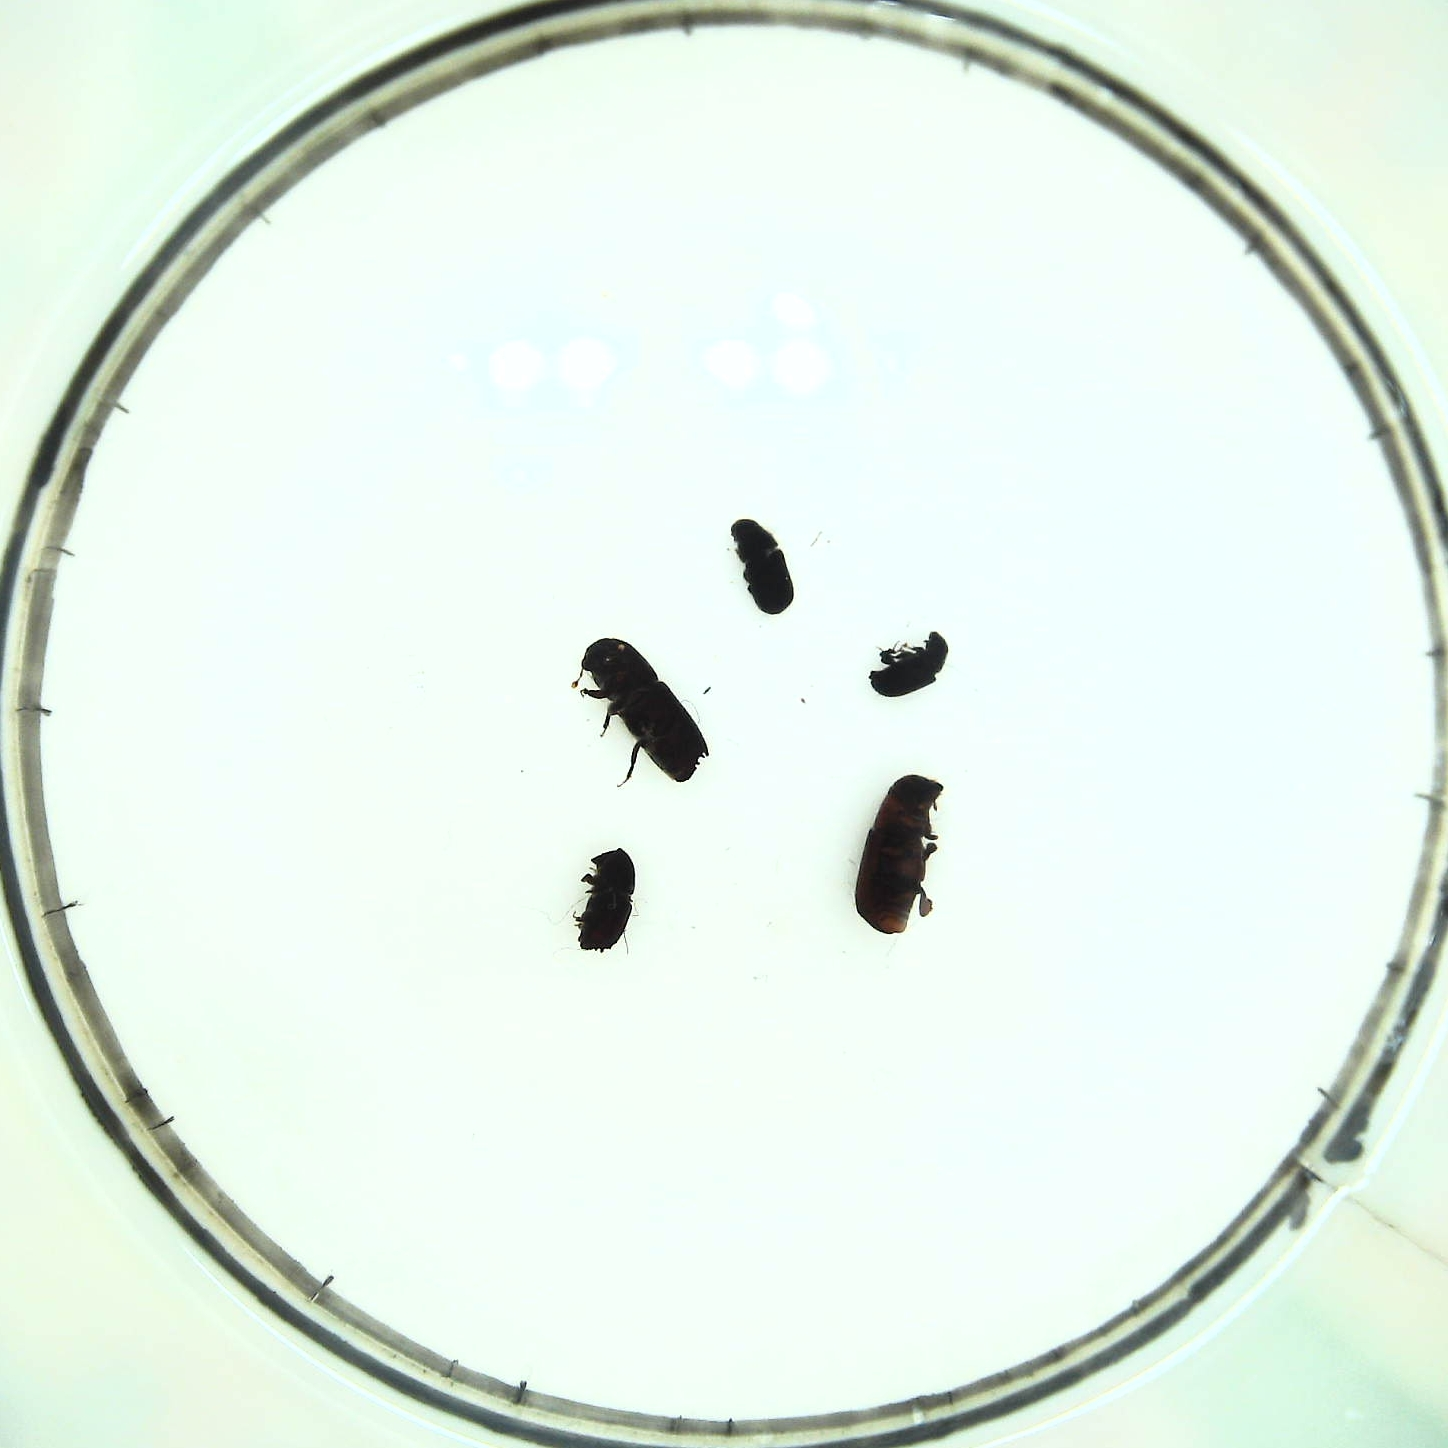Boerner: (579, 634, 712, 788)
Leconte: (857, 777, 945, 939)
Linnaeus: (574, 845, 636, 957)
armandi: (728, 516, 798, 618)
coleoptera: (870, 629, 951, 697)
